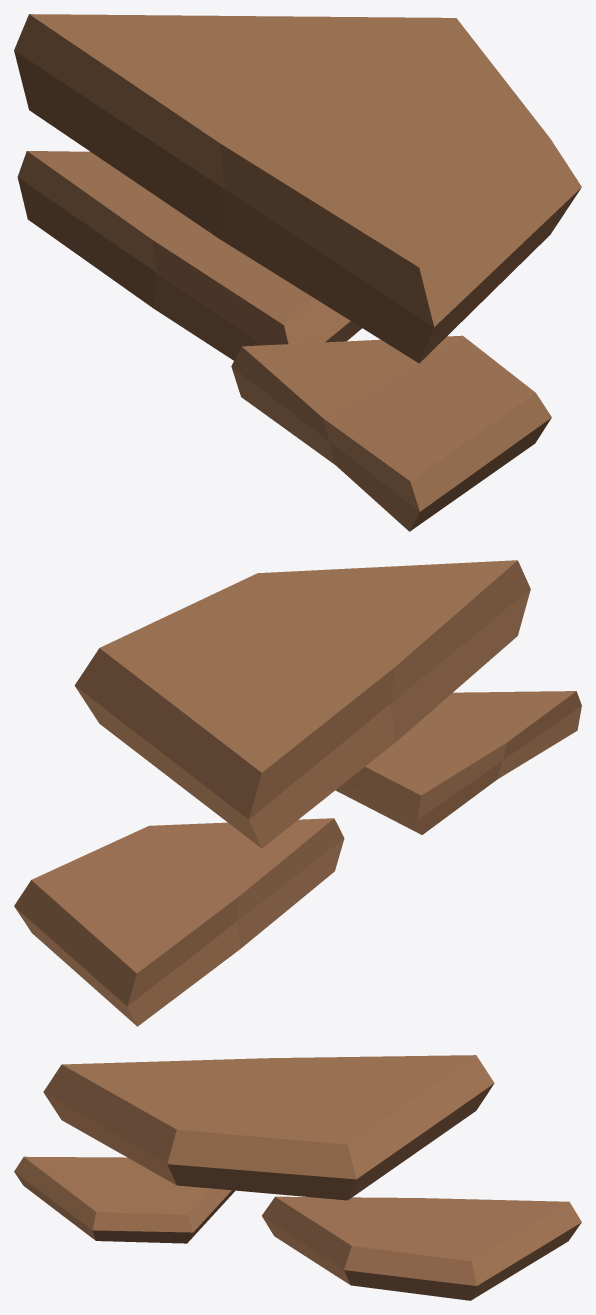
Rendered from TreeMushroom3.fbx.
3 views of the same model, one above another, from view 1: azimuth 30°, elevation 25°; view 2: azimuth 150°, elevation 25°; view 3: azimuth 270°, elevation 25° (orthographic). The views are drawn at different scales.
Visible parts, largest first — view 1: Log_Mushroom_Trio; view 2: Log_Mushroom_Trio; view 3: Log_Mushroom_Trio.
Boxes of the visible parts, bbox=[...] form: Log_Mushroom_Trio: bbox=[14, 14, 581, 531]; Log_Mushroom_Trio: bbox=[14, 560, 581, 1026]; Log_Mushroom_Trio: bbox=[14, 1055, 581, 1300].
Bounding box in the file's own units: 1 × 0.7743 × 2.43.
